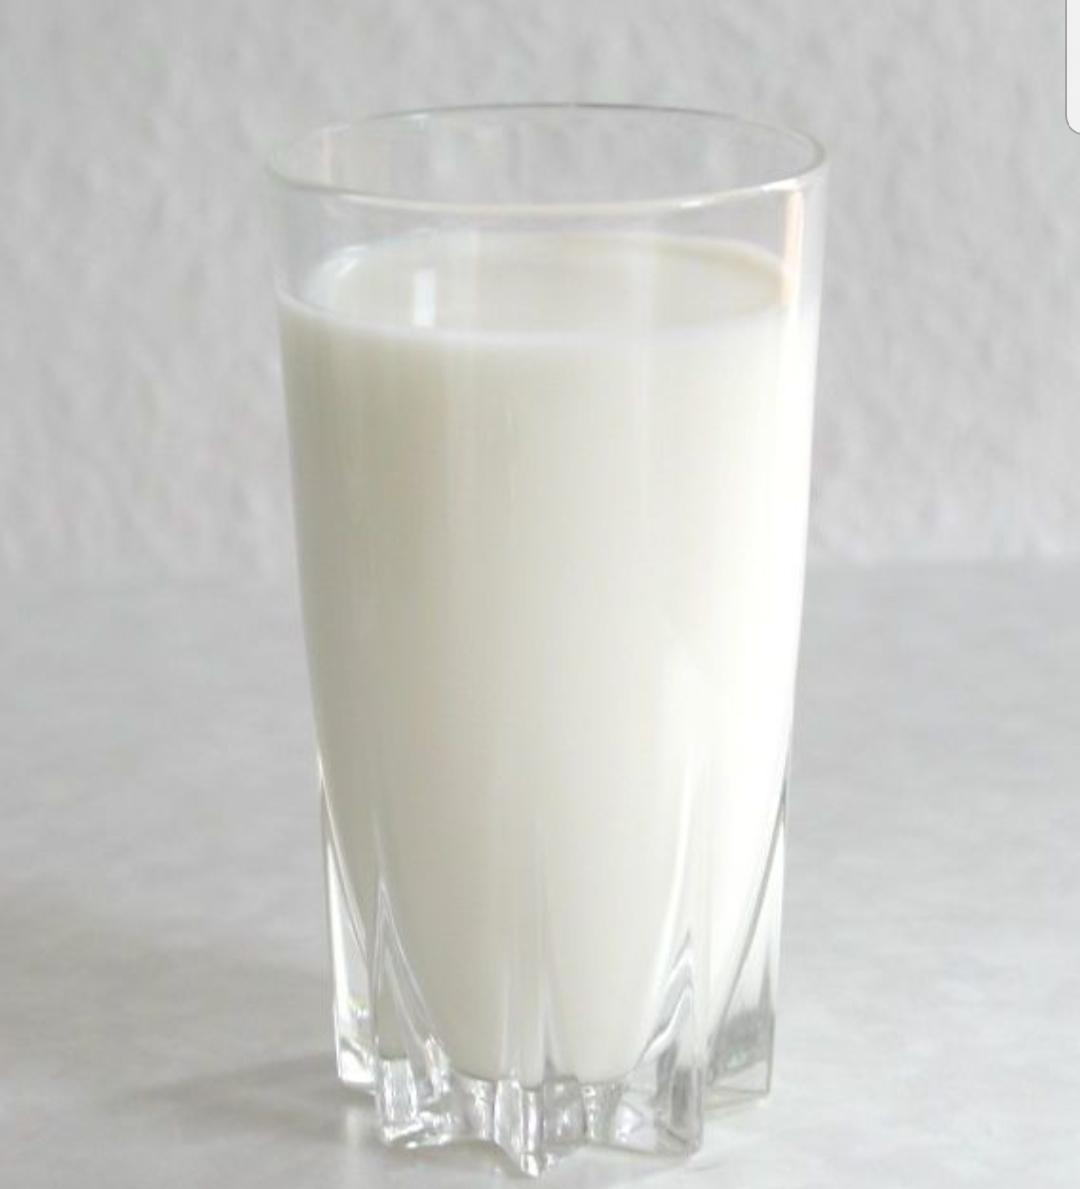glass of milk: (323, 189, 750, 1140)
